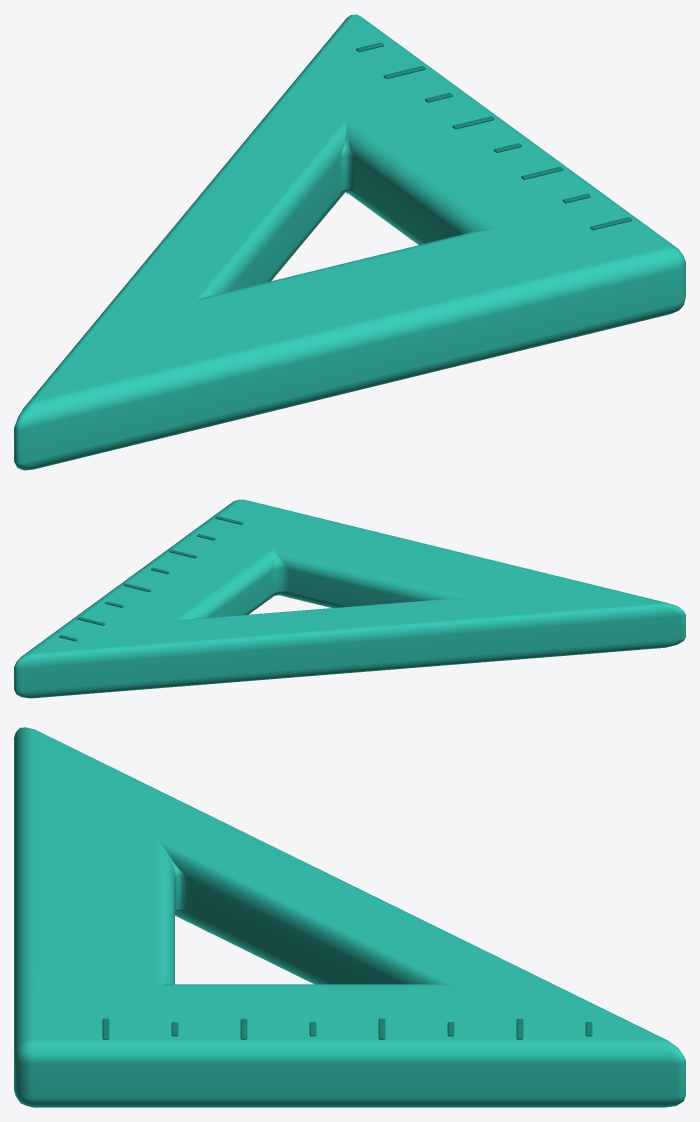
The model's file is set-square.glb.
The picture shows the model from 3 angles, top to bottom: view 1: azimuth 30°, elevation 25°; view 2: azimuth 150°, elevation 25°; view 3: azimuth 270°, elevation 25°; orthographic projection. The views are drawn at different scales.
Parts seen in each view (by area): view 1: Mint triangular set square; view 2: Mint triangular set square; view 3: Mint triangular set square.
Part boxes in pixels (x1,y1,x2,y2): Mint triangular set square: (14,14,685,470); Mint triangular set square: (14,499,685,698); Mint triangular set square: (14,727,685,1107).
Bounding box in the file's own units: 1.7 × 0.165 × 1.46.
